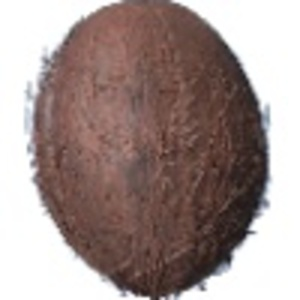coco: (24, 1, 273, 300)
